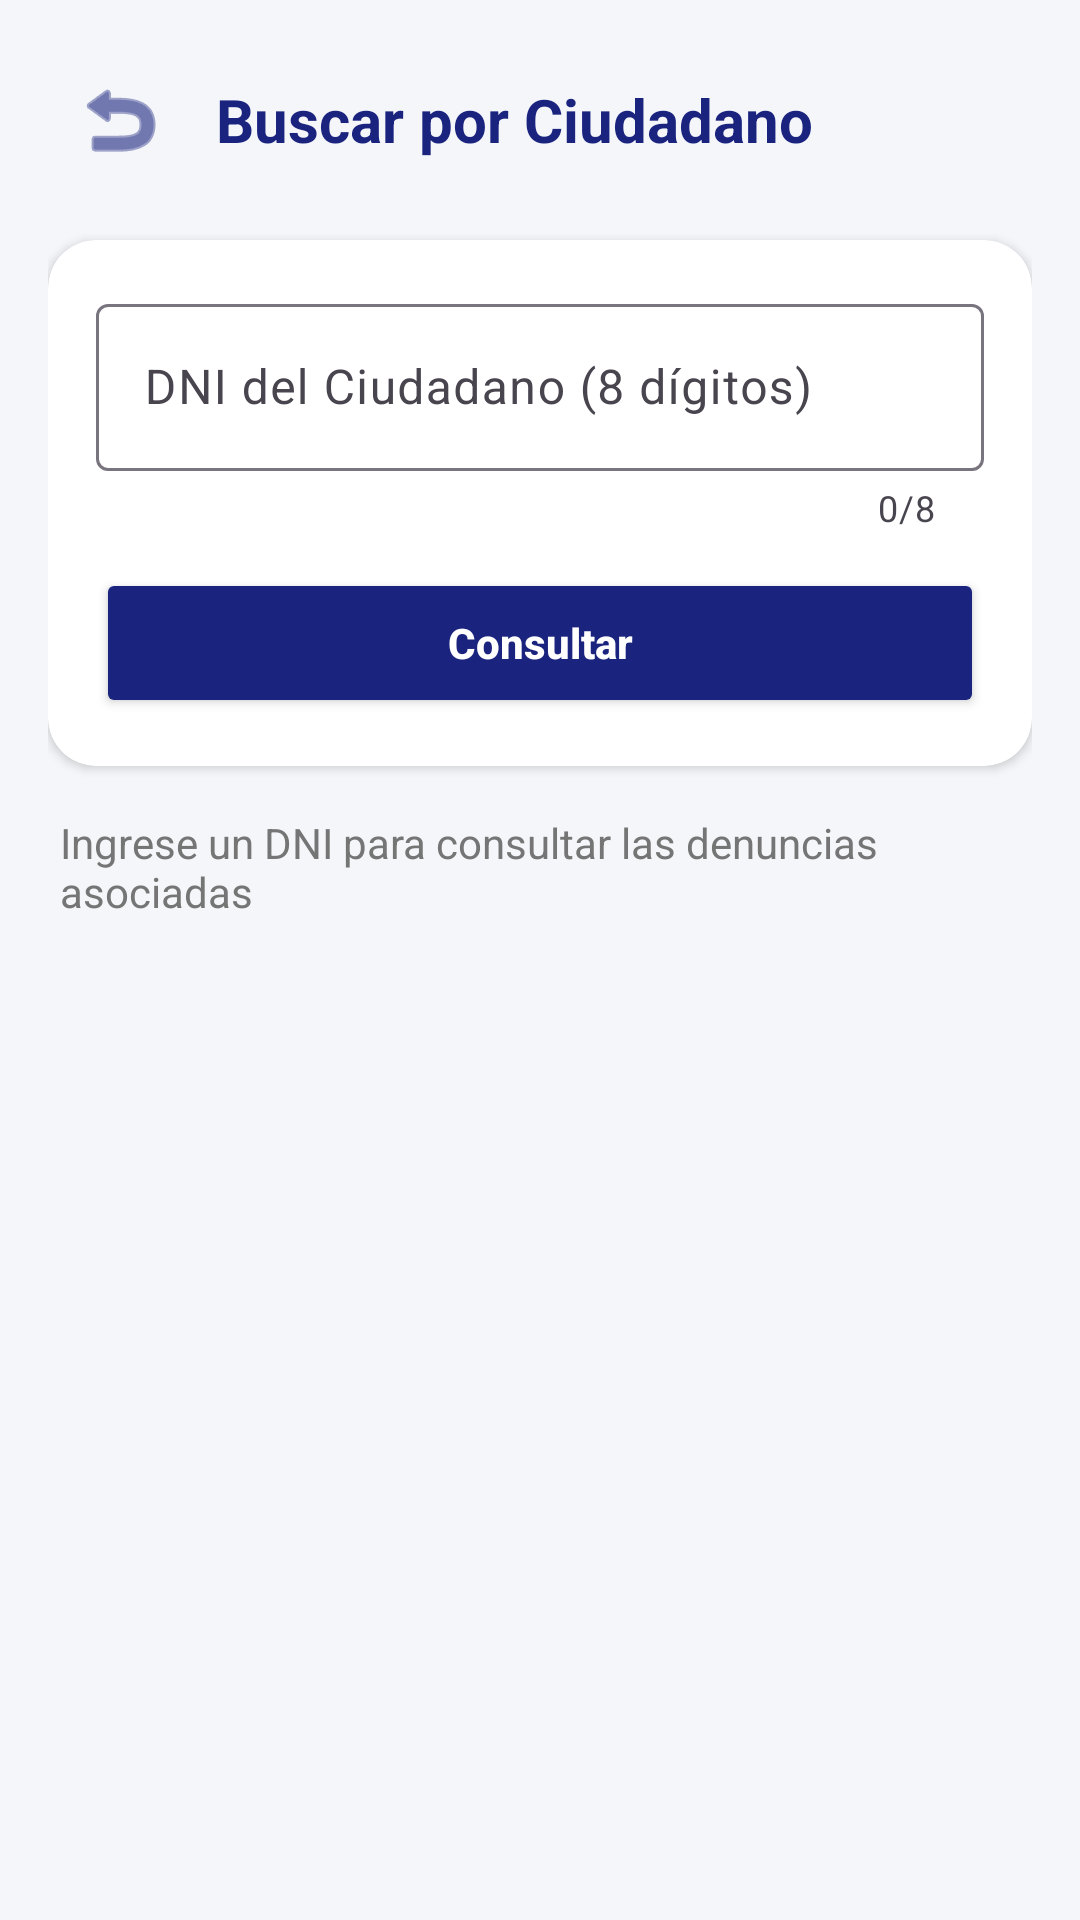

Point at icon controls on the screen. Image size 1080px x 1920px, points as (x,y).
Atrás: (121,120)
